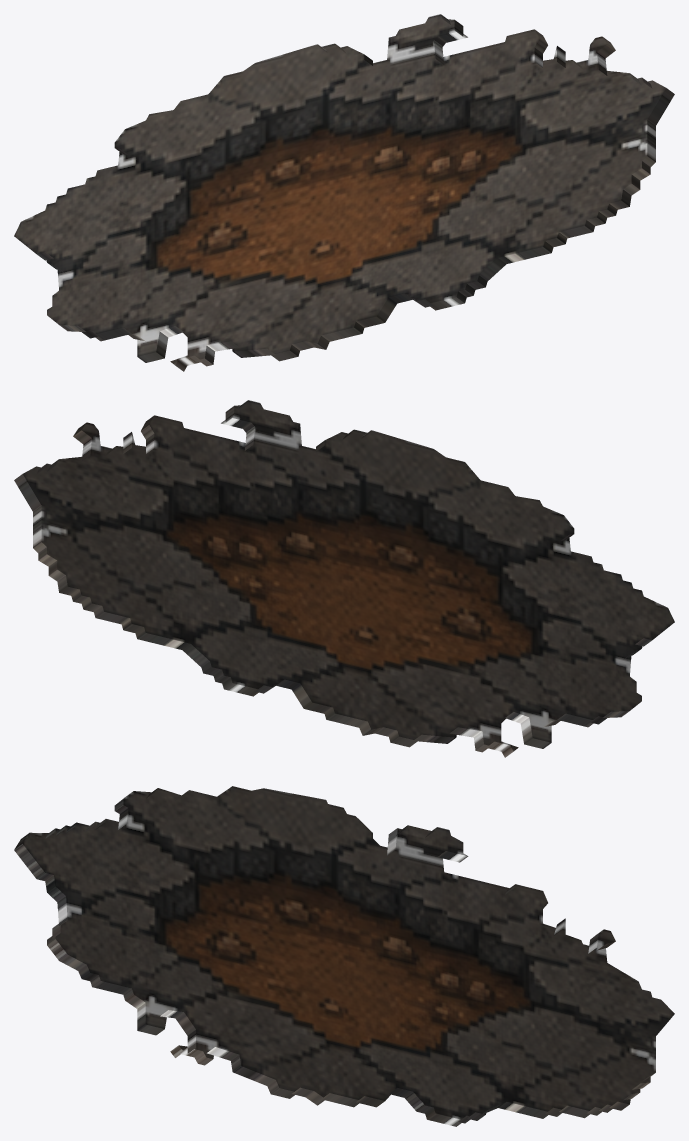
File: pothole.glb
3 views of the same model, one above another, from view 1: azimuth 30°, elevation 25°; view 2: azimuth 150°, elevation 25°; view 3: azimuth 330°, elevation 25° (orthographic).
Parts seen in each view (by area): view 1: world; view 2: world; view 3: world.
Part boxes in pixels (x1=…): world: x1=14, y1=14, x2=674, y2=371; world: x1=14, y1=400, x2=674, y2=757; world: x1=14, y1=786, x2=674, y2=1126.
Size of the model in its own units: 3.76 by 1.65 by 0.086.
Materials: 1 (1 with a texture image).
